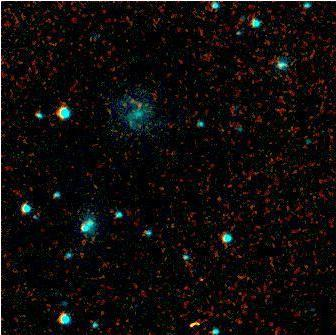star: (189, 264, 219, 294)
